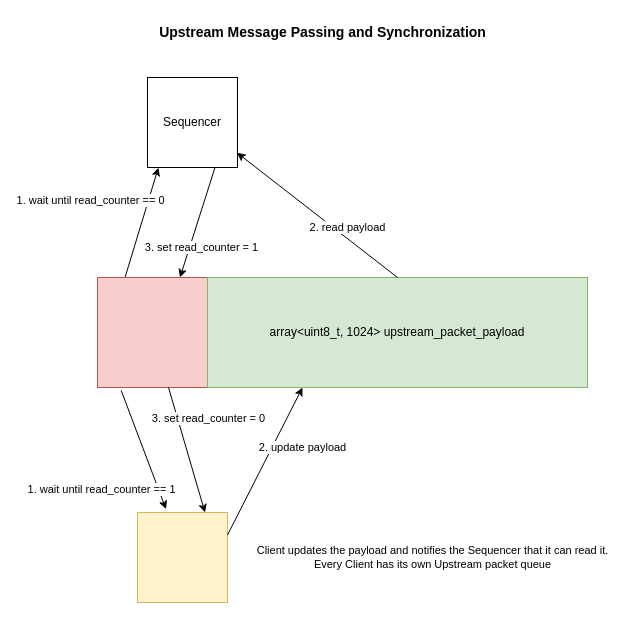
Image size: 640x620. Some labels were removed from this diagram. The centre of each missing label's shape, as x and y in pixels:
"atomic<uint16_t> read_counter" belongs at point (152, 332).
"Client uint16_t id = 0" belongs at point (182, 557).
